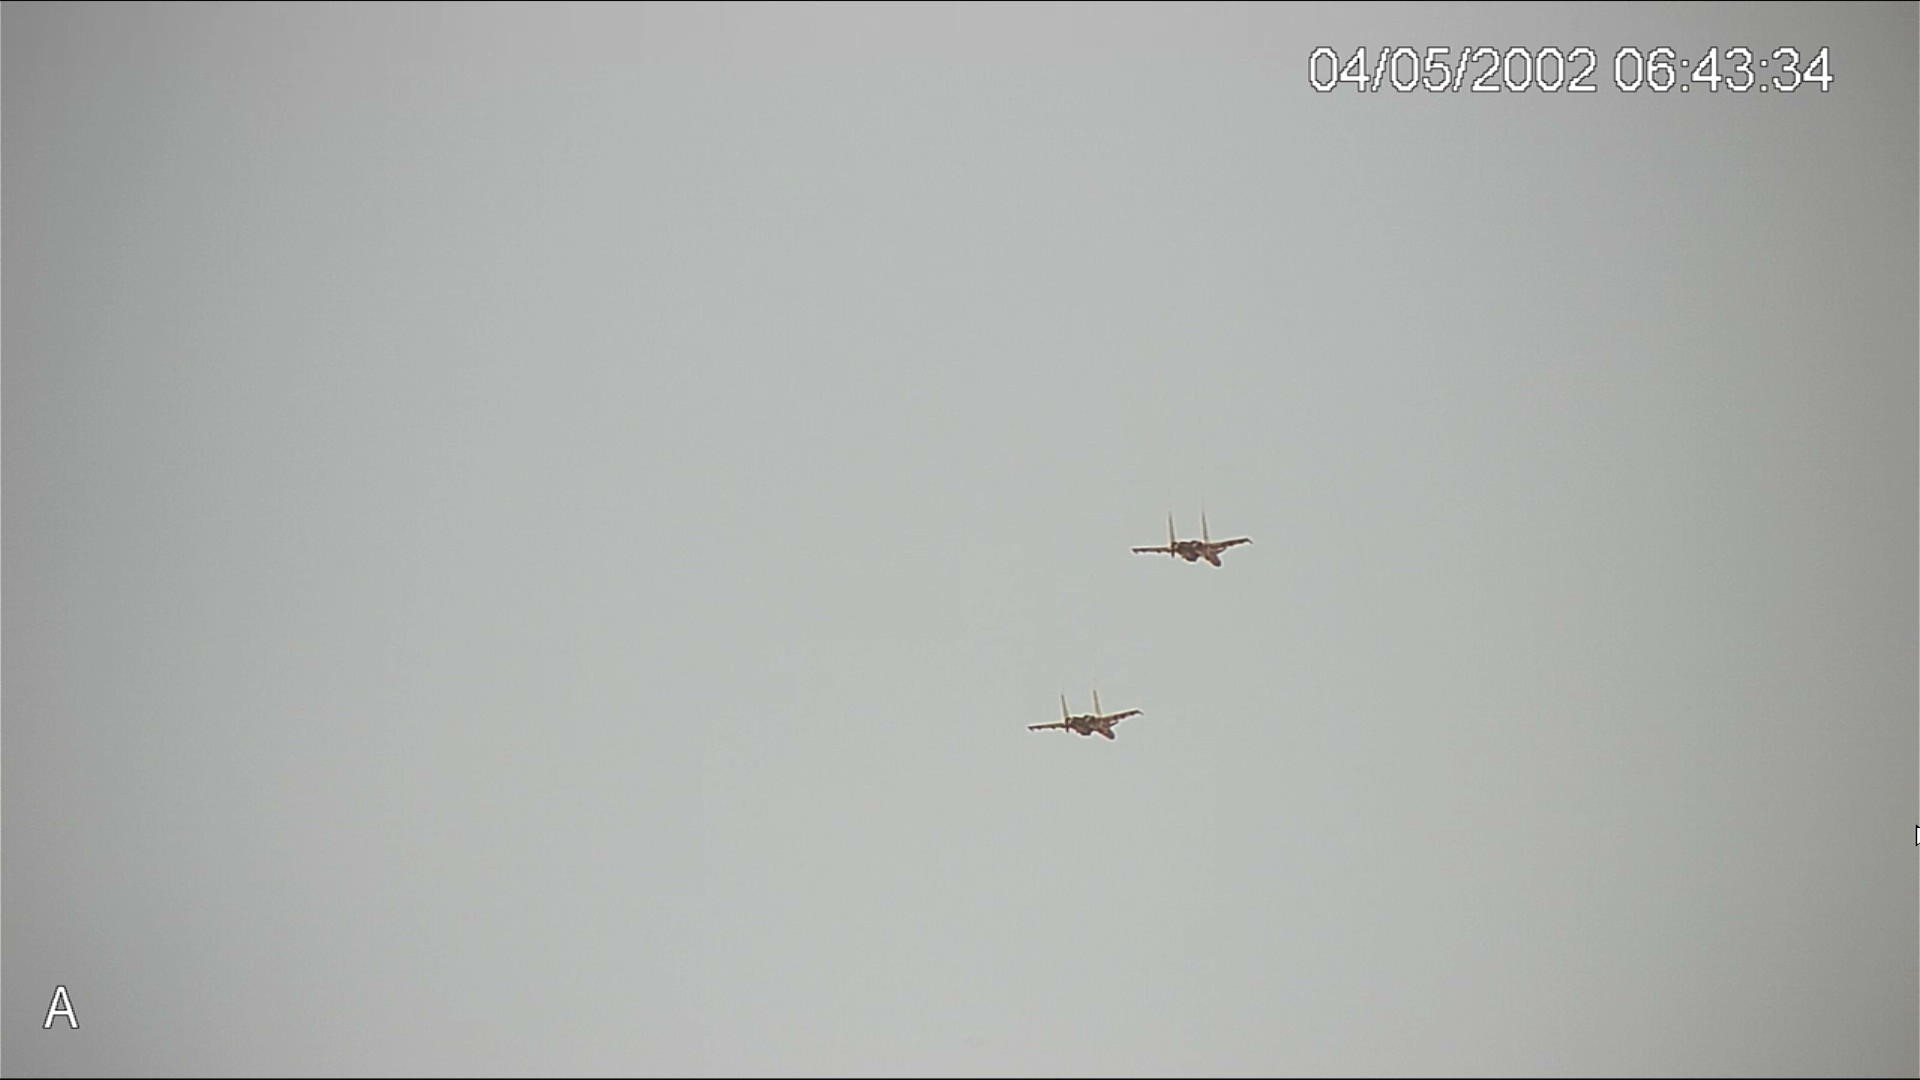SU_30: (1126, 506, 1259, 574), (1025, 691, 1149, 742)
